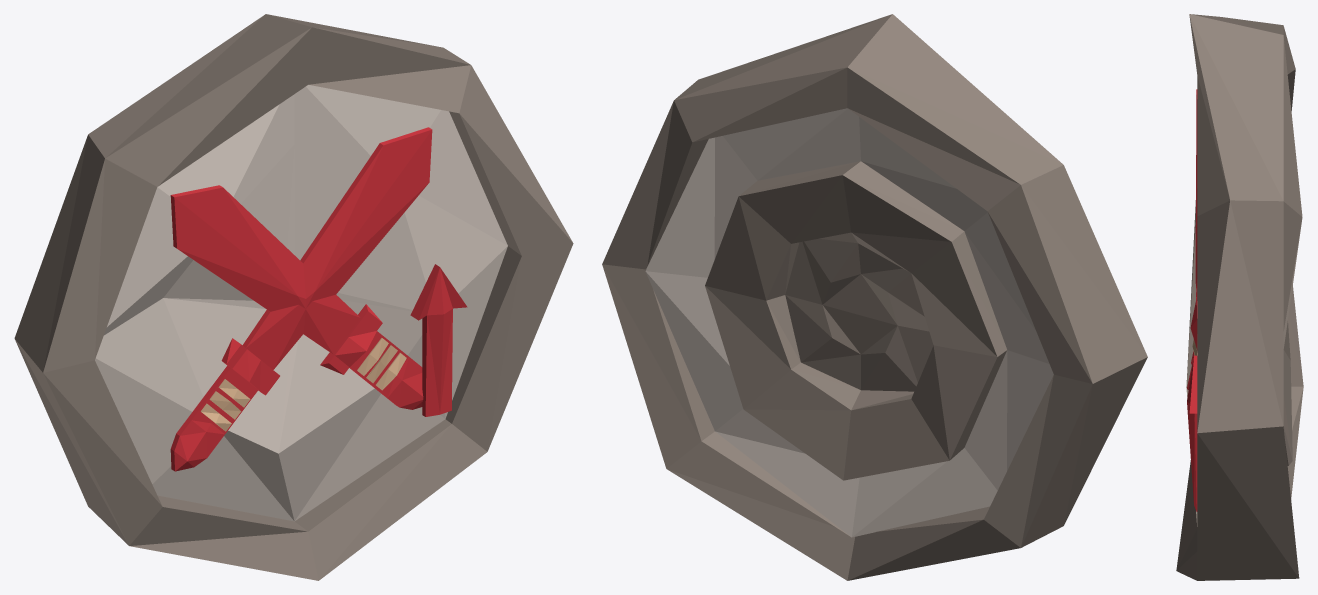
The model's file is item_fly_attack.FBX.
3 views of the same model, side by side, from view 1: azimuth 30°, elevation 25°; view 2: azimuth 150°, elevation 25°; view 3: azimuth 270°, elevation 25° (orthographic). The views are drawn at different scales.
Visible parts, largest first — view 1: coin; view 2: coin; view 3: coin.
Part boxes in pixels (bbox=[...]): coin: bbox=[14, 14, 573, 580]; coin: bbox=[602, 14, 1147, 580]; coin: bbox=[1176, 14, 1303, 580].
Bounding box in the file's own units: 31.09 × 30.75 × 6.37.
Materials: 1 (1 with a texture image).
